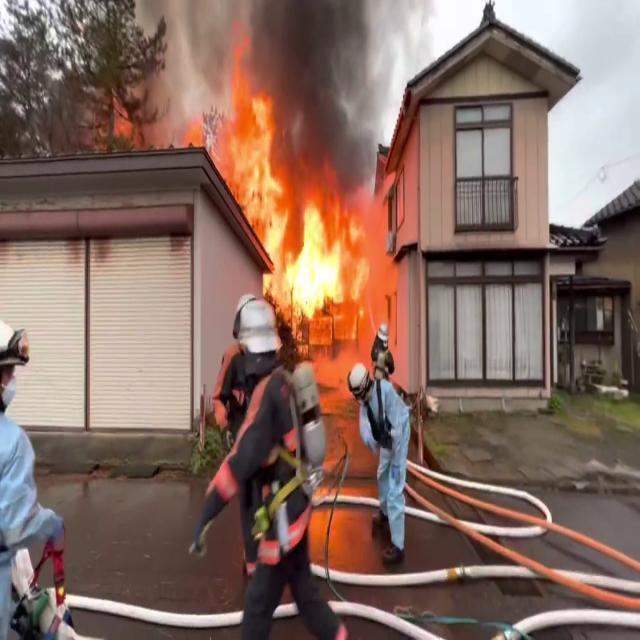Fire: (217, 70, 380, 326)
Smoke: (126, 0, 386, 150)
